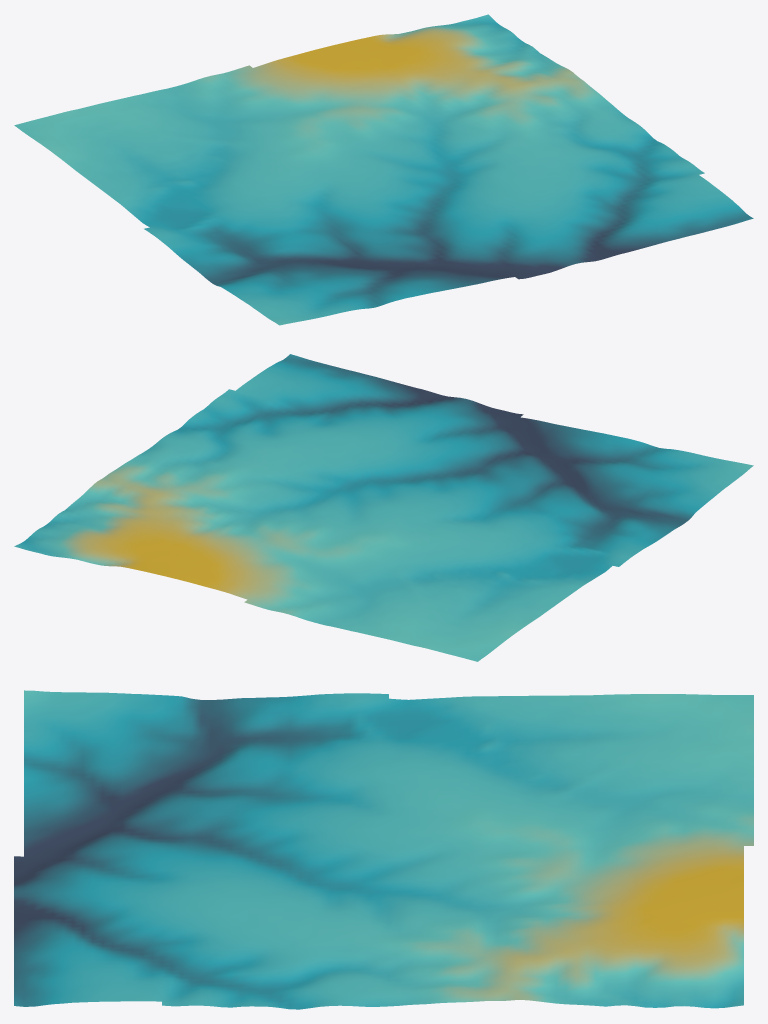
File: terrain.glb
3 views of the same model, one above another, from view 1: azimuth 30°, elevation 25°; view 2: azimuth 150°, elevation 25°; view 3: azimuth 270°, elevation 25° (orthographic). The views are drawn at different scales.
Parts seen in each view (by area): view 1: terrain-chunk-0000; view 2: terrain-chunk-0000; view 3: terrain-chunk-0000.
Boxes of the visible parts, x1,y1,x2,y2 form: terrain-chunk-0000: [14, 14, 753, 325]; terrain-chunk-0000: [14, 354, 753, 661]; terrain-chunk-0000: [14, 690, 753, 1009].
Size of the model in its own units: 2306 by 70.03 by 2306.
